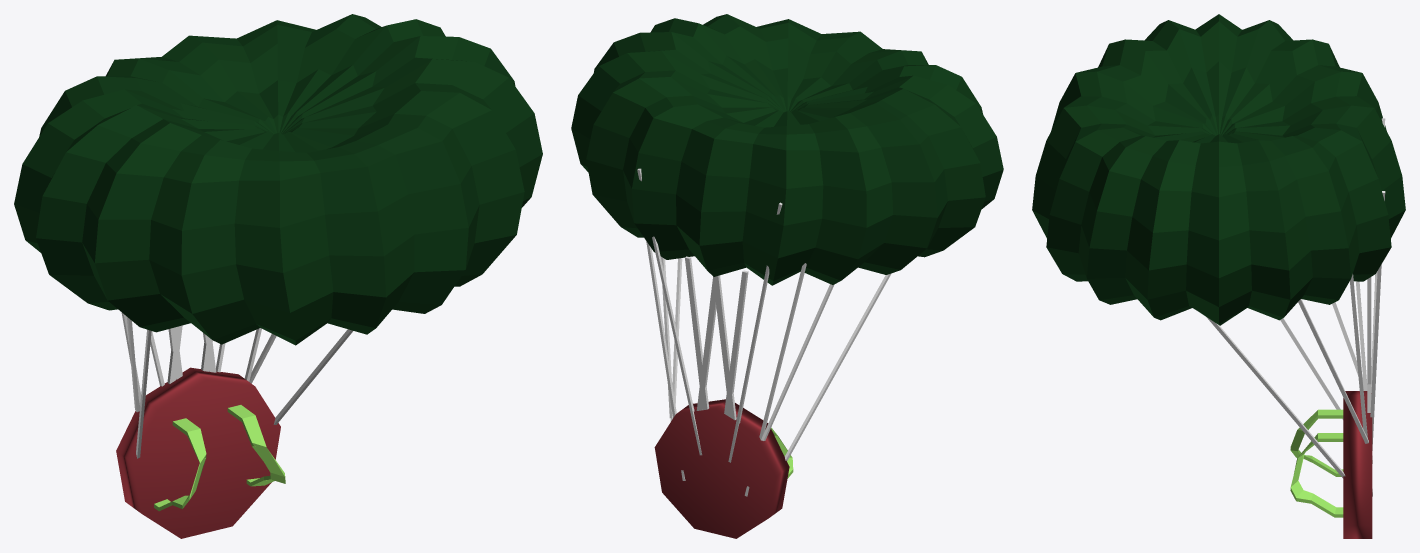
The model's file is parachute.fbx.
The picture shows the model from 3 angles, left to right: view 1: azimuth 30°, elevation 25°; view 2: azimuth 150°, elevation 25°; view 3: azimuth 270°, elevation 25°; orthographic projection. The views are drawn at different scales.
Parts seen in each view (by area): view 1: Esfera, Cilindro, Plano.005, Plano.004, Plano.001, Plano.003; view 2: Esfera, Cilindro, Plano.001, Plano, Plano.002, Plano.004, Plano.003; view 3: Esfera, Cilindro, Plano.005, Plano.004, Plano.002, Plano.003, Plano, Plano.001.
Part boxes in pixels (left/top/right/bottom): Esfera: left=14, top=14, right=542, bottom=345; Cilindro: left=116, top=367, right=280, bottom=538; Plano.005: left=154, top=405, right=285, bottom=511; Plano.004: left=136, top=329, right=352, bottom=458; Plano.001: left=167, top=325, right=216, bottom=383; Plano.003: left=127, top=317, right=276, bottom=412; Esfera: left=571, top=14, right=1003, bottom=285; Cilindro: left=654, top=399, right=789, bottom=538; Plano.001: left=685, top=256, right=748, bottom=420; Plano: left=637, top=168, right=782, bottom=462; Plano.002: left=646, top=241, right=806, bottom=496; Plano.004: left=670, top=258, right=891, bottom=460; Plano.003: left=660, top=256, right=834, bottom=440; Esfera: left=1032, top=14, right=1405, bottom=325; Cilindro: left=1343, top=391, right=1372, bottom=538; Plano.005: left=1290, top=409, right=1343, bottom=517; Plano.004: left=1206, top=317, right=1345, bottom=478; Plano.002: left=1350, top=274, right=1372, bottom=496; Plano.003: left=1298, top=299, right=1368, bottom=443; Plano: left=1370, top=118, right=1385, bottom=450; Plano.001: left=1367, top=277, right=1371, bottom=412.
Size of the model in its own units: 260 by 264 by 200.
